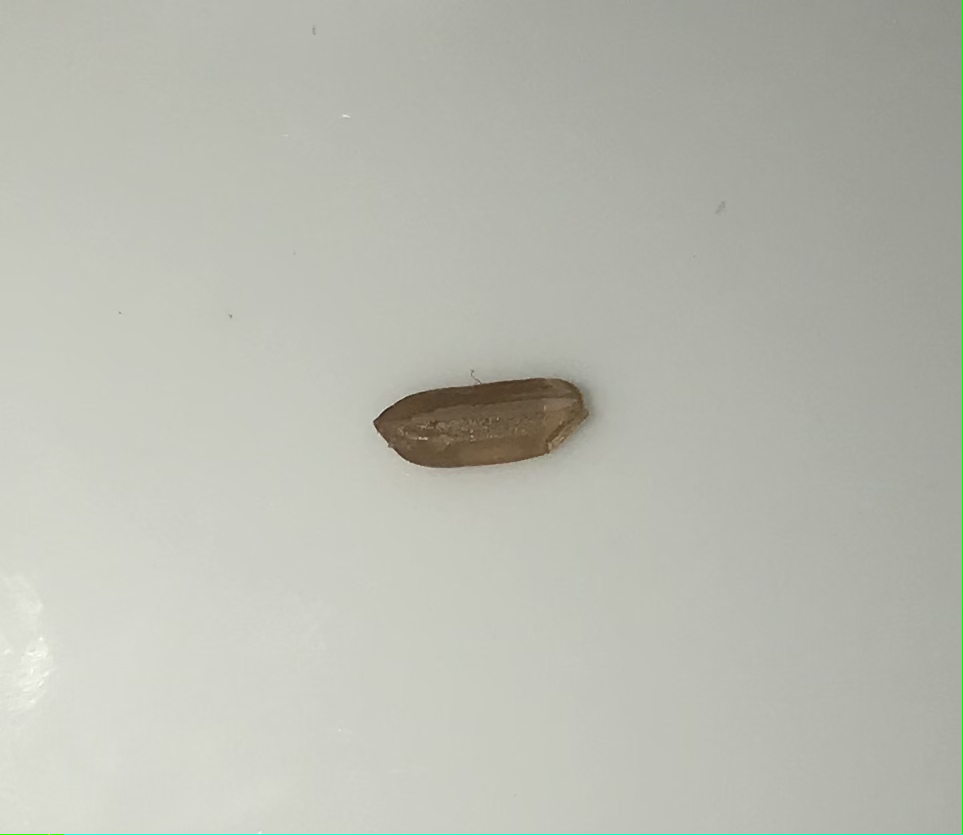Gao Lut Dien Bien: (373, 374, 604, 477)
